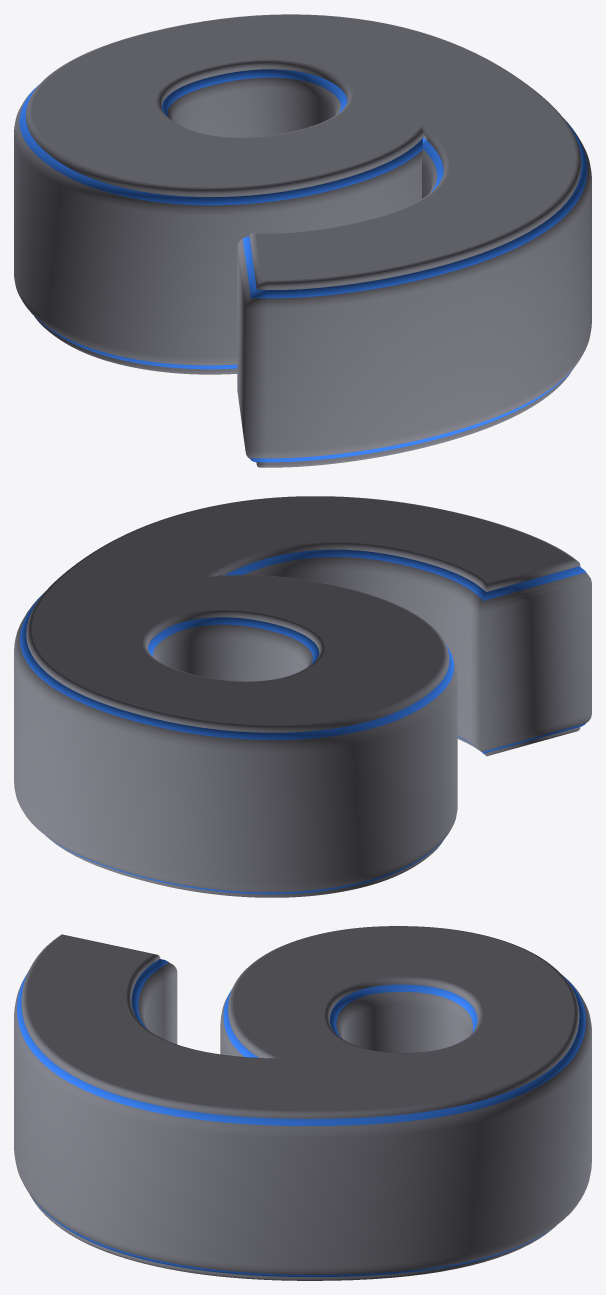
Rendered from 3d_number_-_9_nine.fbx.
The picture shows the model from 3 angles, top to bottom: view 1: azimuth 30°, elevation 25°; view 2: azimuth 150°, elevation 25°; view 3: azimuth 270°, elevation 25°; orthographic projection. The views are drawn at different scales.
Visible parts, largest first — view 1: imagetostl_mesh1, imagetostl_mesh2, imagetostl_mesh0; view 2: imagetostl_mesh1, imagetostl_mesh2, imagetostl_mesh0; view 3: imagetostl_mesh1, imagetostl_mesh2, imagetostl_mesh0.
Part boxes in pixels (left/top/right/bottom): imagetostl_mesh1: left=14, top=77, right=591, bottom=458; imagetostl_mesh2: left=26, top=14, right=581, bottom=467; imagetostl_mesh0: left=19, top=69, right=587, bottom=462; imagetostl_mesh1: left=14, top=557, right=591, bottom=892; imagetostl_mesh2: left=26, top=496, right=580, bottom=897; imagetostl_mesh0: left=19, top=549, right=586, bottom=894; imagetostl_mesh1: left=14, top=962, right=591, bottom=1274; imagetostl_mesh2: left=21, top=926, right=579, bottom=1280; imagetostl_mesh0: left=17, top=959, right=585, bottom=1276.
Size of the model in its own units: 46.07 by 18.4 by 56.95.
